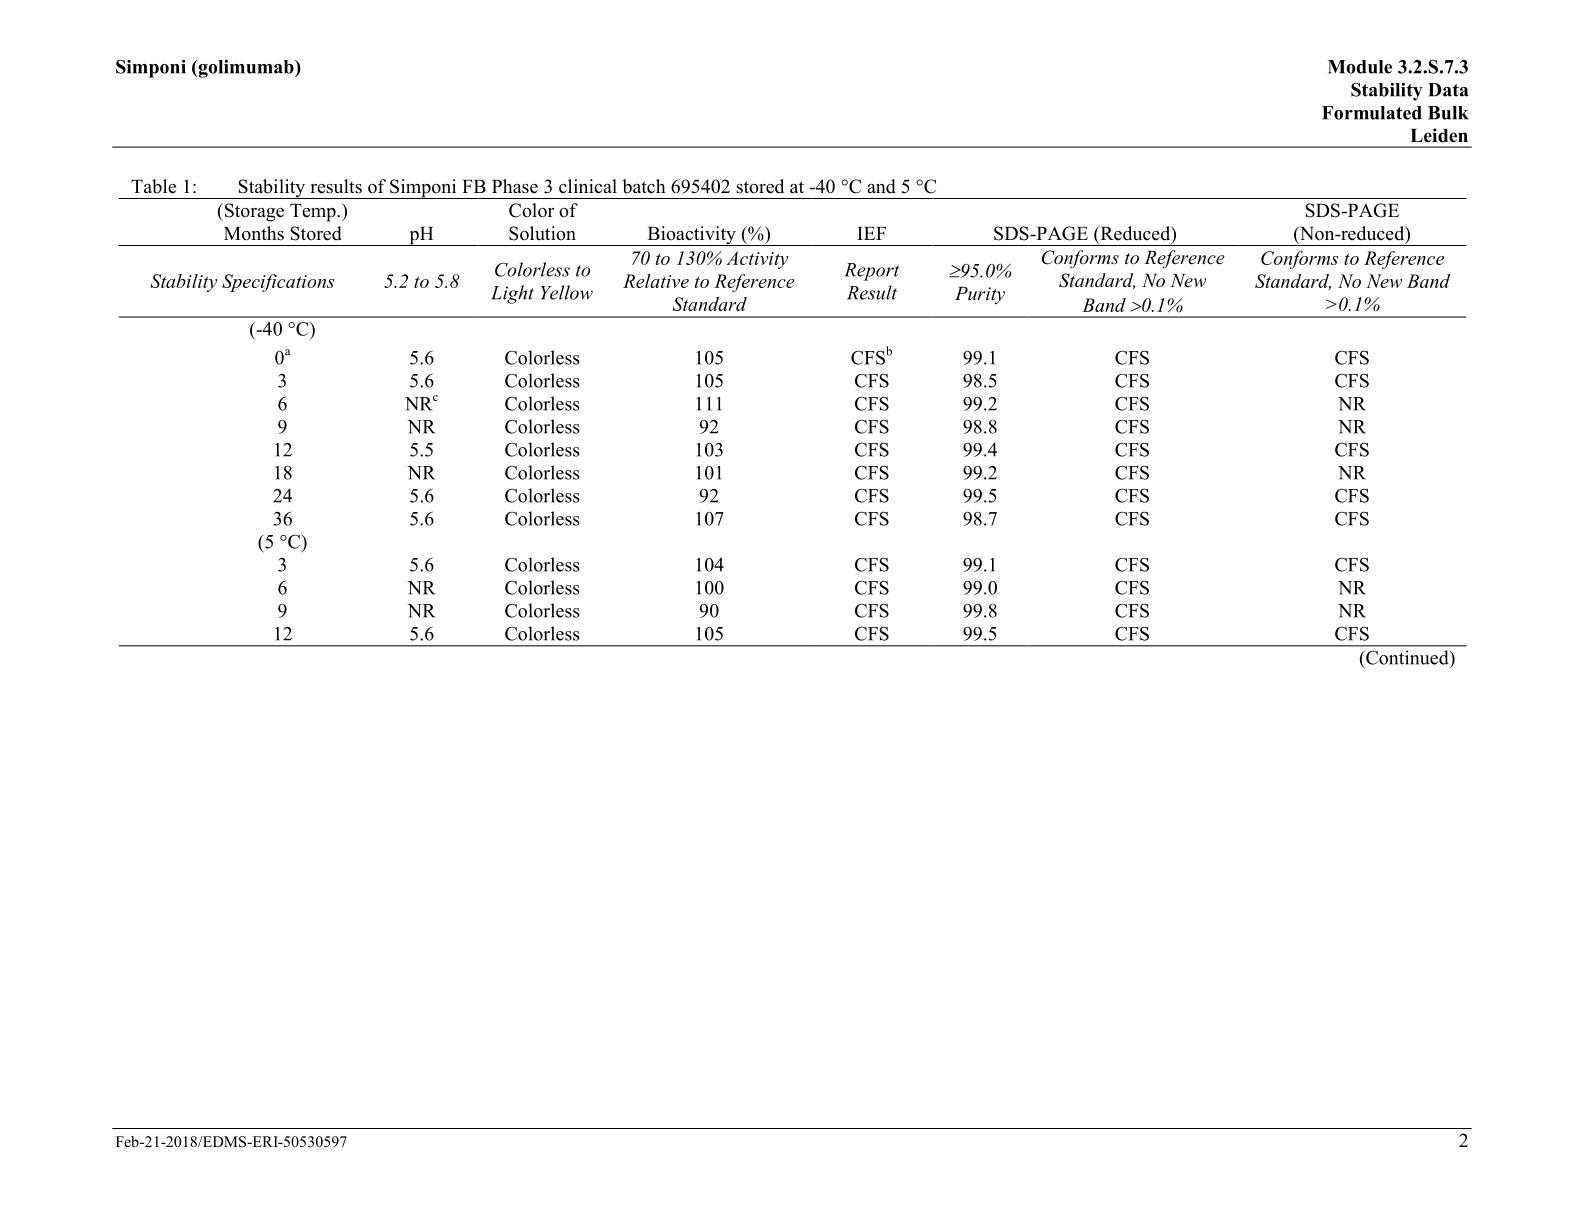partial_lined: (117, 197, 1467, 647)
